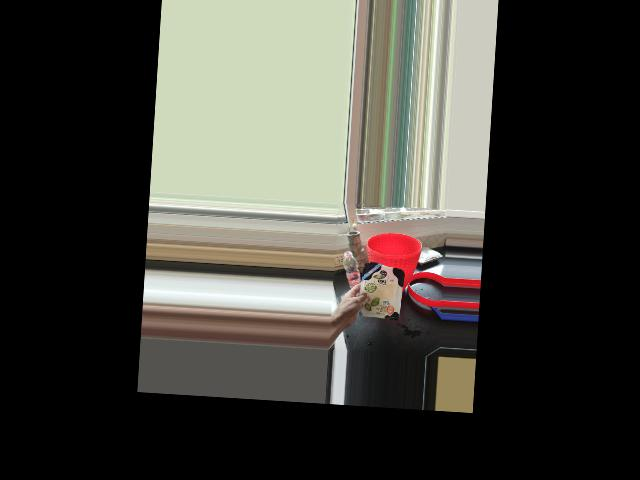cheese: (348, 260, 404, 315)
